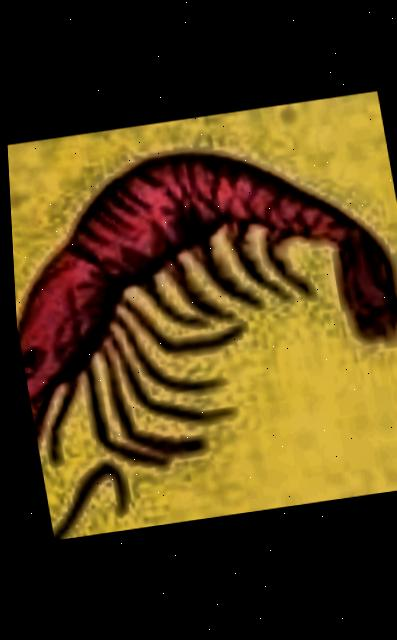El Camaron: (4, 93, 397, 540)
